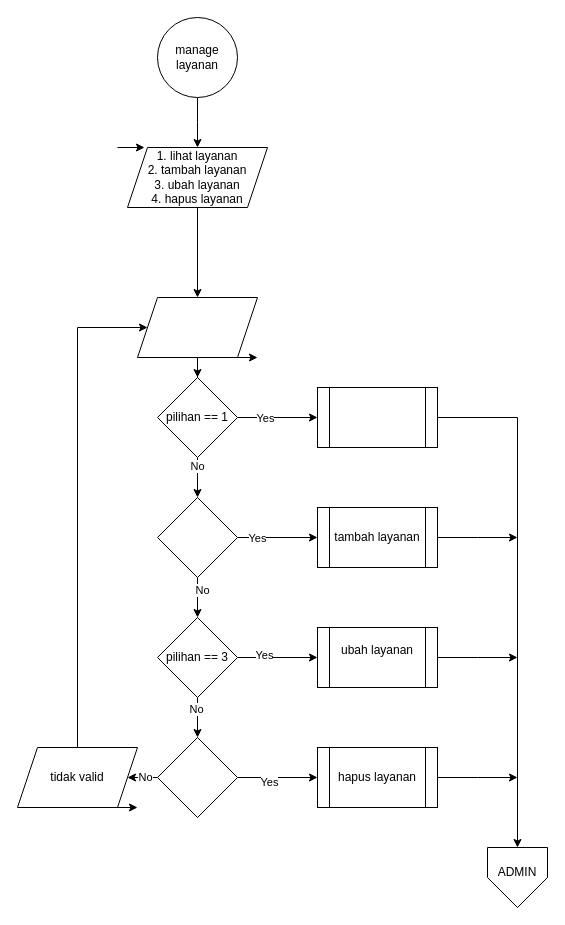
The diagram is 565 pixels wide and 925 high, and some of its shapes have lost their labels. The shapes that lost their labels are listed below. From the top down, each one's box as (x1, y1, x2, y2) in pixels, then its label:
(136, 296, 258, 358): input pilihan
(316, 386, 438, 448): lihat layanan
(156, 496, 238, 578): pilihan == 2
(156, 736, 238, 818): pilihan == 4
